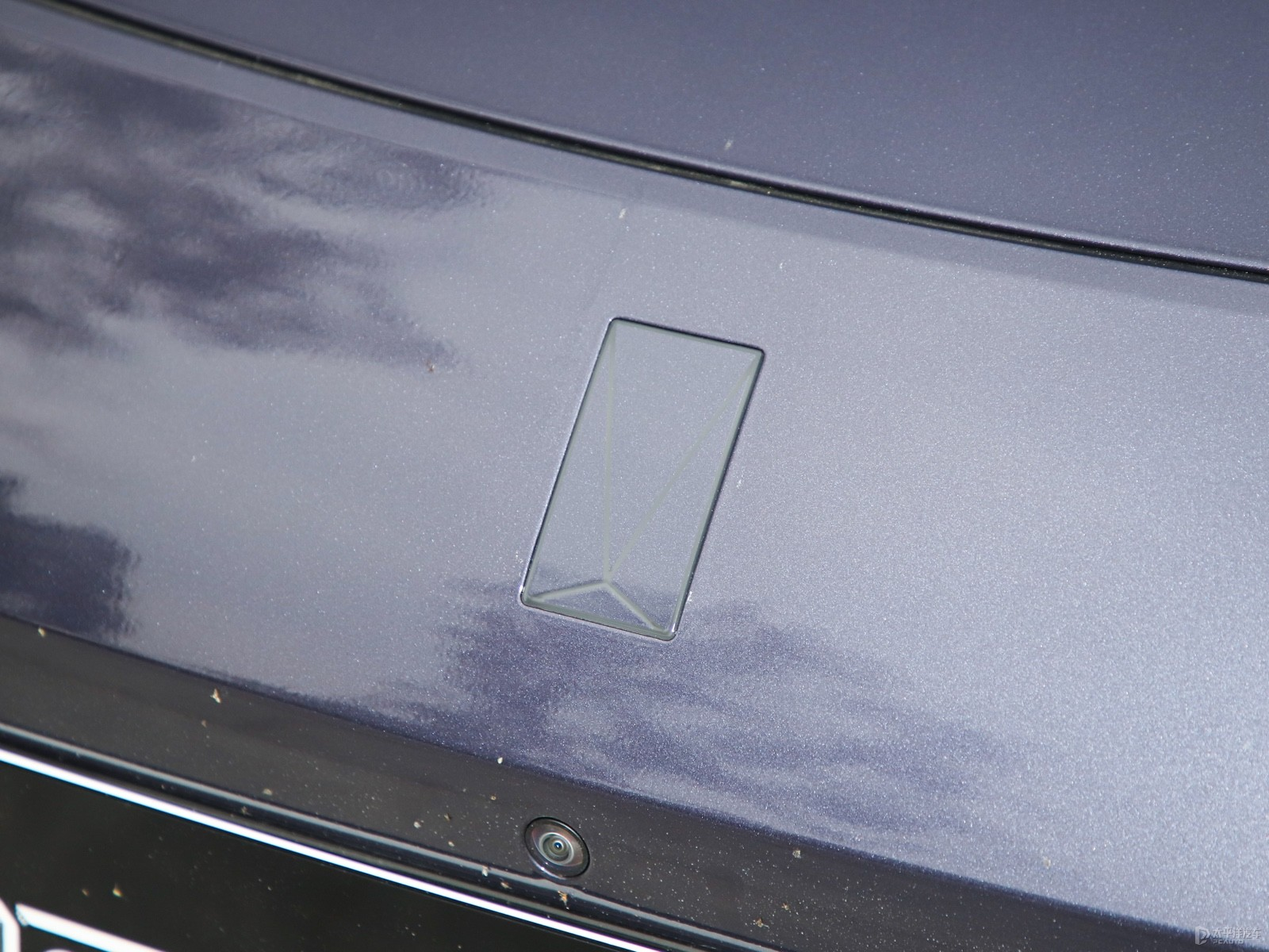AVATR: (520, 317, 765, 641)
